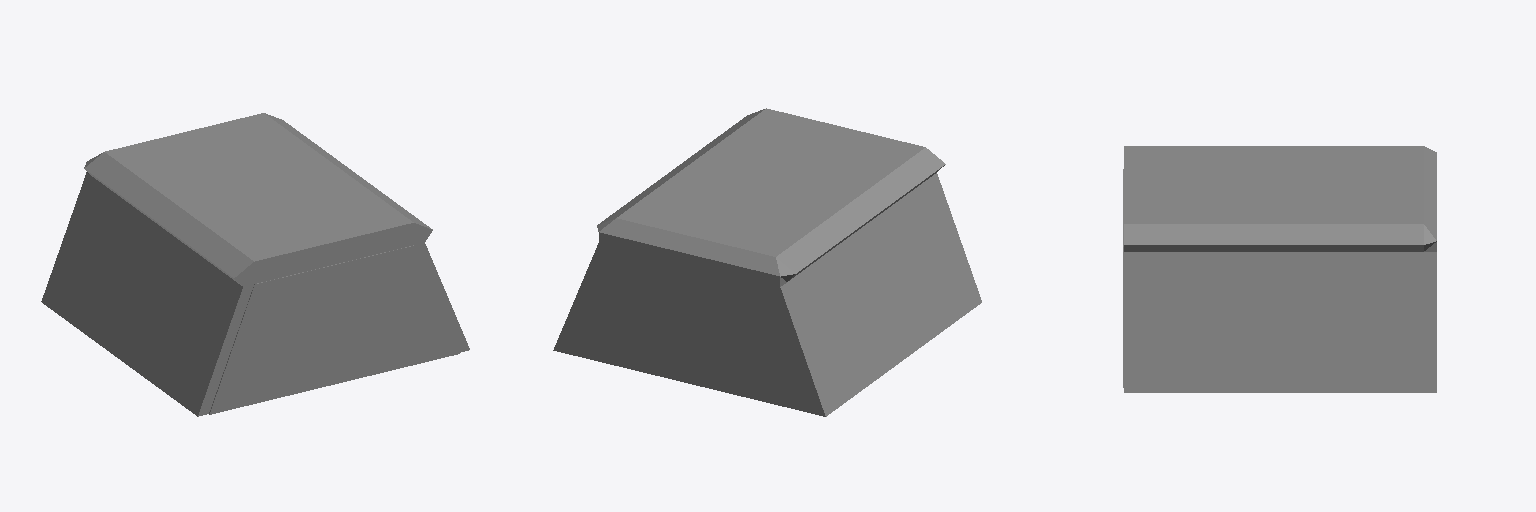
Rendered from Factory.obj.
3 views of the same model, side by side, from view 1: azimuth 30°, elevation 25°; view 2: azimuth 150°, elevation 25°; view 3: azimuth 270°, elevation 25° (orthographic).
Visible parts, largest first — view 1: Box05; view 2: Box05; view 3: Box05.
Boxes of the visible parts, box(x1,y1,x2,y2) form: Box05: box(41, 113, 469, 416); Box05: box(553, 108, 981, 416); Box05: box(1123, 146, 1436, 392).
Size of the model in its own units: 6 by 2.99 by 5.99.